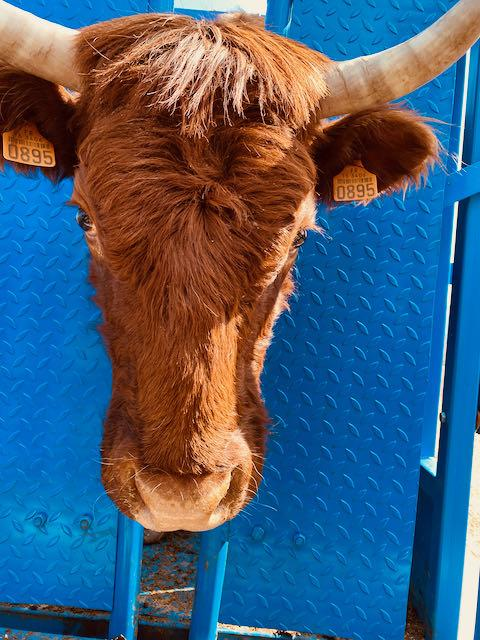muzzles: (101, 439, 254, 541)
